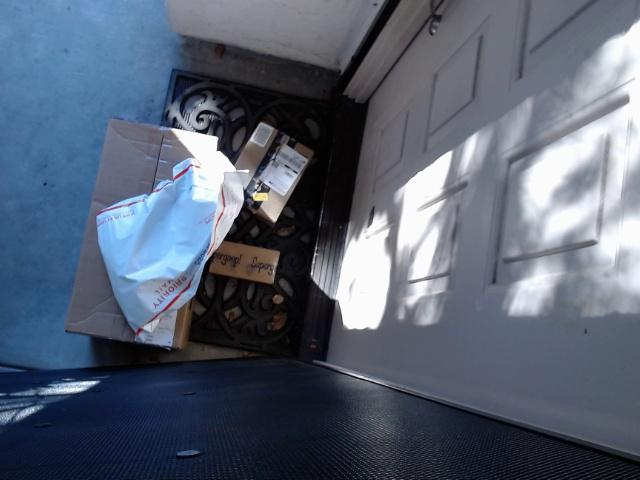box: (65, 118, 218, 350), (234, 121, 315, 226), (209, 240, 281, 284)
plastic_bag: (96, 151, 249, 342)
